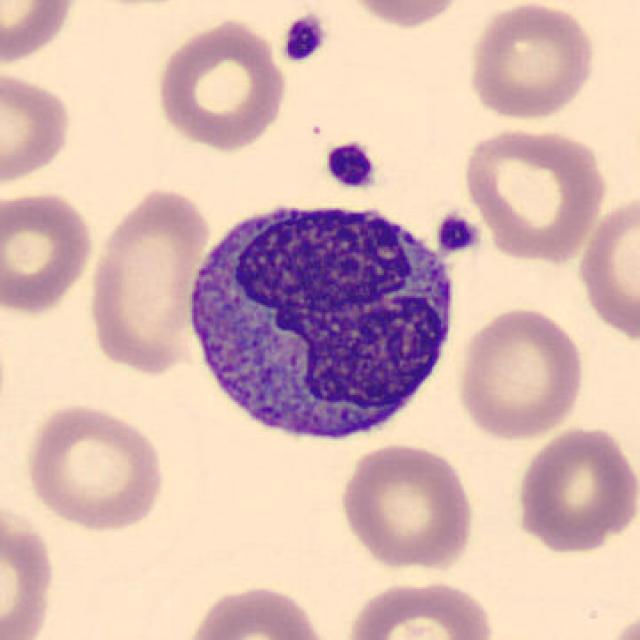Monocyte: (180, 188, 464, 456)
Platelets: (320, 139, 380, 192), (279, 12, 329, 66), (434, 210, 484, 257)
RBC: (84, 180, 212, 377), (458, 123, 612, 263), (21, 398, 169, 534), (151, 14, 290, 153), (334, 439, 478, 573), (454, 303, 588, 443), (510, 424, 638, 556), (462, 0, 599, 123), (0, 187, 98, 317), (574, 189, 638, 349), (341, 576, 497, 640), (0, 66, 76, 190), (0, 492, 59, 640), (182, 582, 332, 640), (0, 0, 80, 67), (338, 0, 471, 32), (603, 608, 638, 640)
